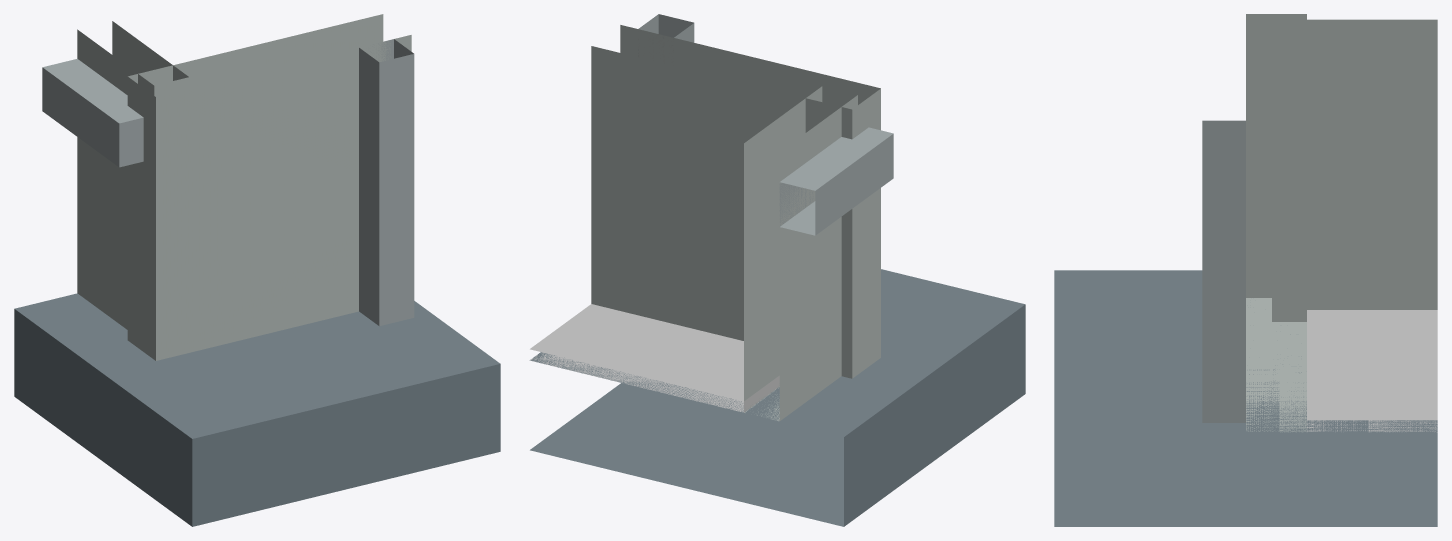
The model's file is cell_42.obj.
The picture shows the model from 3 angles, left to right: view 1: azimuth 30°, elevation 25°; view 2: azimuth 150°, elevation 25°; view 3: azimuth 270°, elevation 25°; orthographic projection. The views are drawn at different scales.
Bounding box in the file's own units: 0.88 × 0.96 × 0.88.
